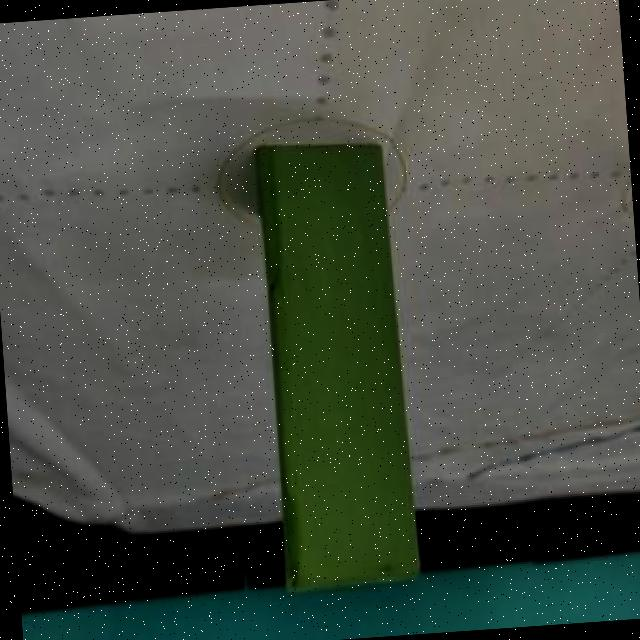greenbox: (251, 141, 423, 596)
